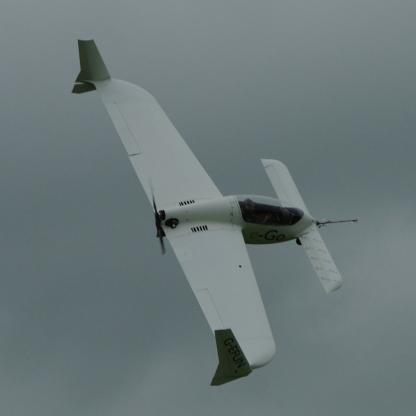CIV_Plane: (62, 31, 361, 388)
